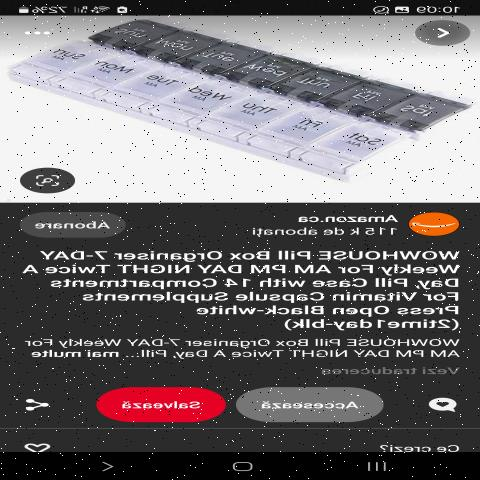Pill-box: (23, 19, 449, 186)
